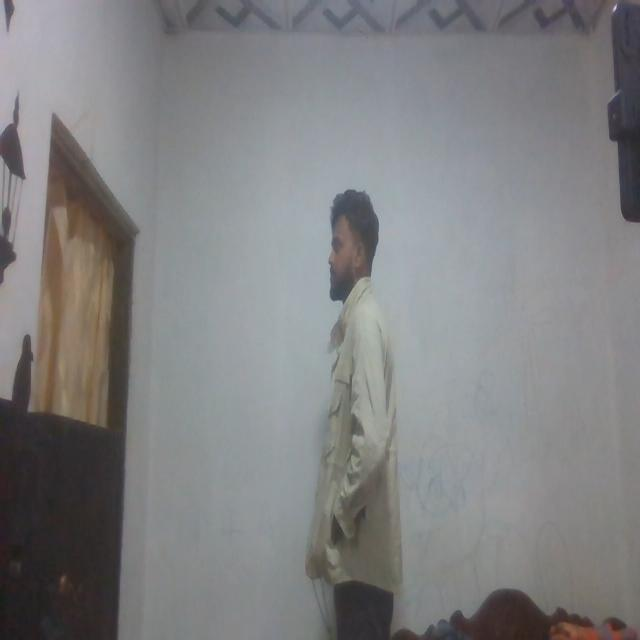Jacket_Wearer: (311, 284, 413, 590)
Person: (297, 180, 429, 618)
